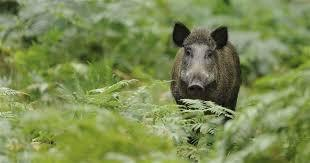wildboar: (170, 20, 244, 145)
